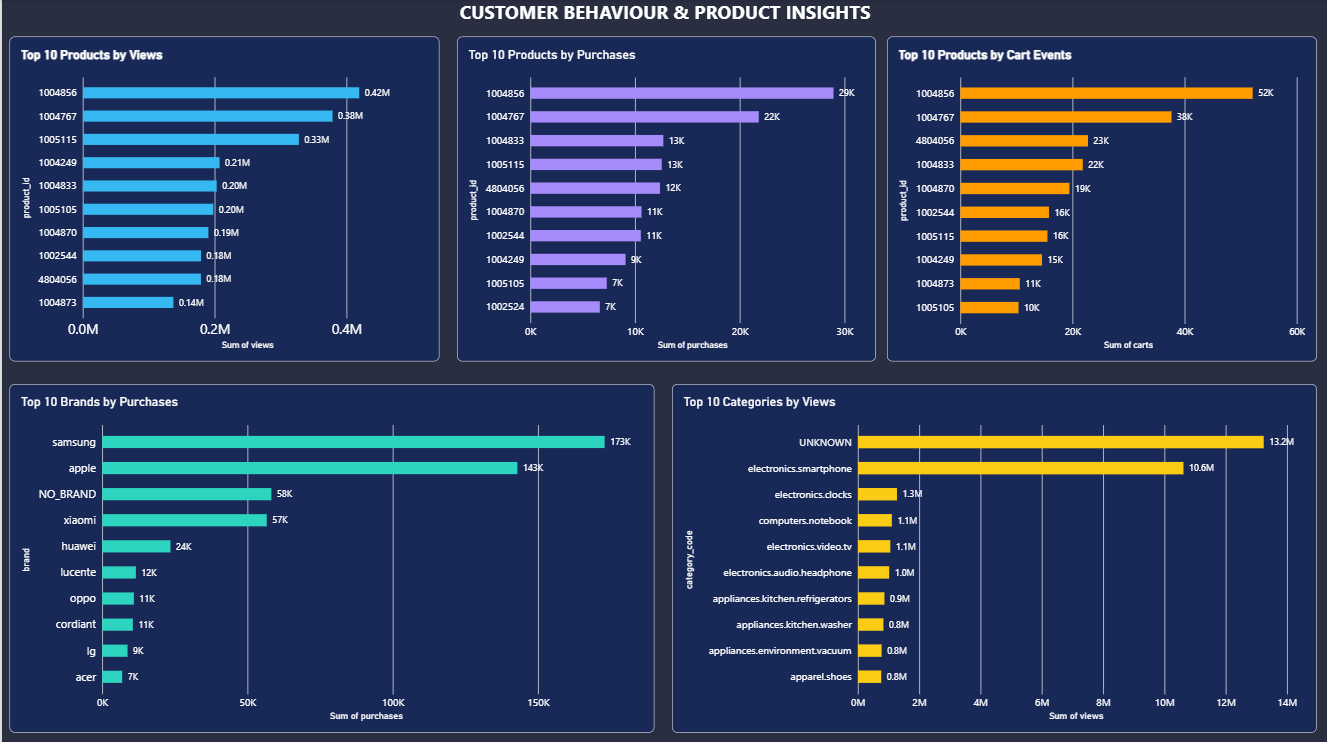

The page's visual inventory and layout, read from the dashboard file:
{"tool":"powerbi","page":{"name":"Customer Behaviour & Product Insights","canvas":[1920,1080],"ordinal":2},"visuals":[{"type":"textbox","box":[10,290,280,280],"z":1},{"type":"textbox","box":[0,0,1920.1,280.5],"z":2},{"type":"clusteredBarChart","title":"Top 10 Products by Views","fields":{"Category":["top_products.product_id"],"Y":["Sum(top_products.views)"]},"box":[10.9,54.3,622.5,470.5],"z":3},{"type":"clusteredBarChart","title":"Top 10 Products by Cart Events","fields":{"Category":["top_products.product_id"],"Y":["Sum(top_products.carts)"]},"box":[1281.2,54.3,622.5,470.5],"z":4},{"type":"clusteredBarChart","title":"Top 10 Products by Purchases","fields":{"Category":["top_products.product_id"],"Y":["Sum(top_products.purchases)"]},"box":[658.7,54.3,606.2,470.5],"z":5},{"type":"clusteredBarChart","title":"Top 10 Brands by Purchases","fields":{"Category":["brand_performance.brand"],"Y":["Sum(brand_performance.purchases)"]},"box":[10.9,557.4,933.8,504.9],"z":6},{"type":"clusteredBarChart","title":"Top 10 Categories by Views","fields":{"Category":["category_performance.category_code"],"Y":["Sum(category_performance.views)"]},"box":[970,557.4,933.8,504.9],"z":7}]}

Visuals, with their boxes in screenshot pixels (x1, y1, x2, y2), scaled from the page's 1920x1080 canvas onto the 1327x742 screenshot:
textbox: [x1=7, y1=199, x2=200, y2=392]
textbox: [x1=0, y1=0, x2=1326, y2=193]
"Top 10 Products by Views" clusteredBarChart: [x1=8, y1=37, x2=438, y2=361]
"Top 10 Products by Cart Events" clusteredBarChart: [x1=885, y1=37, x2=1316, y2=361]
"Top 10 Products by Purchases" clusteredBarChart: [x1=455, y1=37, x2=874, y2=361]
"Top 10 Brands by Purchases" clusteredBarChart: [x1=8, y1=383, x2=653, y2=730]
"Top 10 Categories by Views" clusteredBarChart: [x1=670, y1=383, x2=1316, y2=730]
